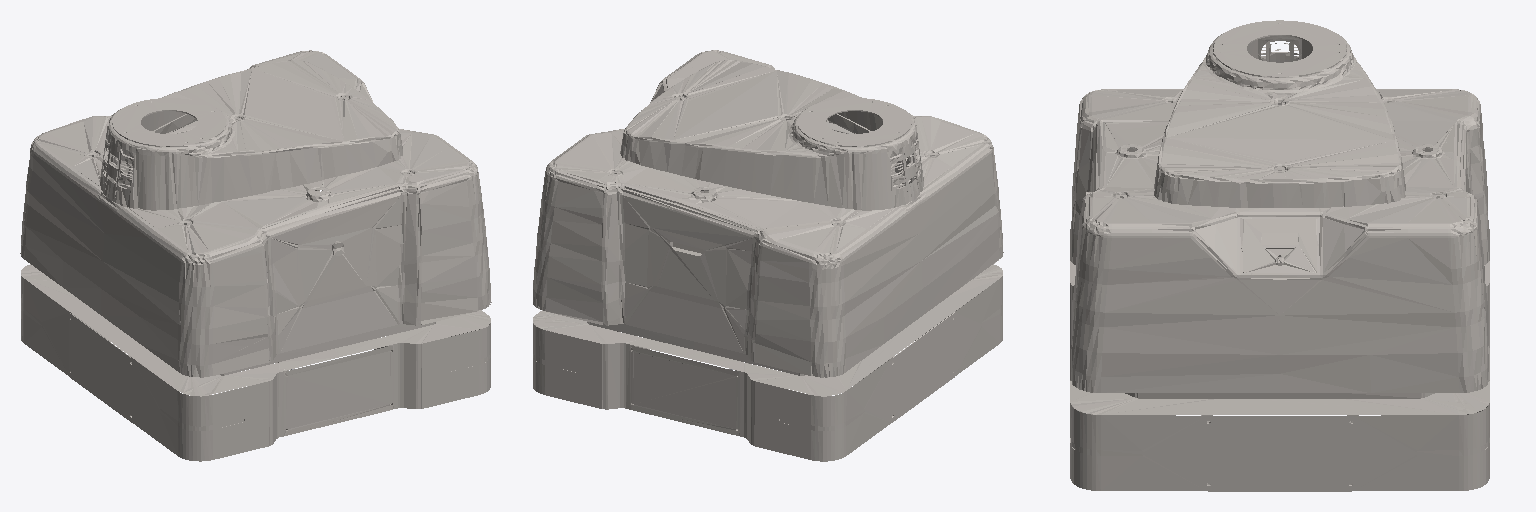
--- Facts derived from the render (not from the file) ---
3 views of the same robot in one strip: view 1: azimuth 30°, elevation 25°; view 2: azimuth 150°, elevation 25°; view 3: azimuth 270°, elevation 25° (orthographic).
Robot: awcombo — 2 links, 1 joints (1 fixed); root link base_link; default pose: every joint at zero.
Visible links, largest first — view 1: base_link; view 2: base_link; view 3: base_link.
Boxes of the visible links, x1=… form: base_link: x1=20, y1=50, x2=491, y2=461; base_link: x1=533, y1=50, x2=1003, y2=461; base_link: x1=1070, y1=20, x2=1489, y2=491.
Bounding box of the posed robot: 0.8508 × 0.85 × 0.7245 m (x, y, z).
1 mesh visuals loaded from 1 distinct referenced files (1 binary STL).

URDF robot description (awcombo):
<?xml version="1.0" ?>
<!-- =================================================================================== -->
<!-- |    This document was autogenerated by xacro from awcombo.xacro                  | -->
<!-- |    EDITING THIS FILE BY HAND IS NOT RECOMMENDED                                 | -->
<!-- =================================================================================== -->
<robot name="awcombo">
  <material name="aluminum">
    <color rgba="0.5 0.5 0.5 1"/>
  </material>
  <material name="plastic">
    <color rgba="0.1 0.1 0.1 1"/>
  </material>

  <!-- <joint name="base_footprint_joint" type="fixed">
    <parent link="base_link"/>
    <child link="base_footprint"/>
    <origin rpy="0 0 0" xyz="0 0 0"/>
  </joint> -->
  <link name="base_link">
    <inertial>
      <origin rpy="0 0 0" xyz="0.00020197 0.0019401 0.43265"/>
      <mass value="95.371"/>
      <inertia ixx="7.048" ixy="0.0020566" ixz="-0.00016602" iyy="7.0414" iyz="-0.14914" izz="12.614"/>
    </inertial>
    <visual>
      <origin rpy="0 0 0" xyz="0 0 0"/>
      <geometry>
        <mesh filename="package://neo_simulation2/robots/mpo_700/meshes/descriptions/amr_combo_v2/meshes/base_link.STL"/>
      </geometry>
      <material name="">
        <color rgba="0.77647 0.75686 0.73725 1"/>
      </material>
    </visual>
    <collision>
      <origin rpy="0 0 0" xyz="0 0 0"/>
      <geometry>
        <mesh filename="package://neo_simulation2/robots/mpo_700/meshes/descriptions/amr_combo_v2/meshes/base_link.STL"/>
      </geometry>
    </collision>
  </link>
  <link name="base_footprint">
    <inertial>
      <origin rpy="0 0 0" xyz="-0.00097233 0.00030419 0.2973"/>
      <mass value="27.996"/>
      <inertia ixx="1.2308" ixy="-0.00018417" ixz="1.2244E-06" iyy="1.1622" iyz="9.0657E-07" izz="2.3922"/>
    </inertial>
    <visual>
      <origin rpy="0 0 0" xyz="0 0 0"/>
      <geometry>
        <!-- <mesh filename="$(find amr_combo_v2)/meshes/base_footprint.STL"/> -->
        <box size="0.01 0.01 0.01" />
      </geometry>
      <material name="">
        <color rgba="0.86667 0.86667 0.8902 1"/>
      </material>
    </visual>
    <collision>
      <origin rpy="0 0 0" xyz="0 0 0"/>
      <geometry>
        <!-- <mesh filename="package://amr_combo_v2/meshes/base_footprint.STL"/> -->
        <box size="0.01 0.01 0.01" />
      </geometry>
    </collision>
  </link>
  <joint name="base_footprint" type="fixed">
    <origin rpy="0 0 0" xyz="0.1 0 0"/>
    <parent link="base_link"/>
    <child link="base_footprint"/>
    <axis xyz="0 0 0"/>
  </joint>
  <!-- <link name="mpo_700_caster_back_left_link">
    <inertial>
      <origin rpy="0 0 0" xyz="-5.5511E-17 0.0079242 -0.027057"/>
      <mass value="17.529"/>
      <inertia ixx="0.15365" ixy="4.3519E-19" ixz="2.079E-18" iyy="0.15493" iyz="0.010987" izz="0.025283"/>
    </inertial>
    <visual>
      <origin rpy="0 0 0" xyz="0 0 0"/>
      <geometry>
        <mesh filename="package://amr_combo_v2/meshes/mpo_700_caster_back_left_link.STL" scale="0.001 0.001 0.001"/>
      </geometry>
      <material name="">
        <color rgba="0.77647 0.75686 0.73725 1"/>
      </material>
    </visual>
    <collision>
      <origin rpy="0 0 0" xyz="0 0 0"/>
      <geometry>
        <mesh filename="package://amr_combo_v2/meshes/mpo_700_caster_back_left_link.STL" scale="0.001 0.001 0.001"/>
      </geometry>
    </collision>
  </link>
  <joint name="mpo_700_caster_back_left_joint" type="revolute">
    <origin rpy="0 0 0" xyz="-0.26 0.26 0.22"/>
    <parent link="base_footprint"/>
    <child link="mpo_700_caster_back_left_link"/>
    <axis xyz="0 0 1"/>
    <limit effort="1000" lower="-1E+16" upper="1E+16" velocity="6.5"/>
    <dynamics damping="30" friction="110"/>
  </joint> -->
  <!-- <link name="mpo_700_wheel_back_left_link">
    <inertial>
      <origin rpy="0 0 0" xyz="0 -0.0003764 0"/>
      <mass value="5.9448"/>
      <inertia ixx="0.012415" ixy="-1.6832E-19" ixz="-6.1901E-19" iyy="0.02381" iyz="-1.5948E-18" izz="0.012415"/>
    </inertial>
    <visual>
      <origin rpy="0 0 0" xyz="0 0 0"/>
      <geometry>
        <mesh filename="package://amr_combo_v2/meshes/mpo_700_wheel_back_left_link.STL"/>
      </geometry>
      <material name="">
        <color rgba="0.77647 0.75686 0.73725 1"/>
      </material>
    </visual>
    <collision>
      <origin rpy="0 0 0" xyz="0 0 0"/>
      <geometry>
        <mesh filename="package://amr_combo_v2/meshes/mpo_700_wheel_back_left_link.STL"/>
      </geometry>
    </collision>
  </link>
  <joint name="mpo_700_wheel_back_left_joint" type="revolute">
    <origin rpy="0 0 3.1416" xyz="0 -0.0453 -0.122"/>
    <parent link="mpo_700_caster_back_left_link"/>
    <child link="mpo_700_wheel_back_left_link"/>
    <axis xyz="0 1 0"/>
    <limit effort="1000" lower="-1E+16" upper="1E+16" velocity="20.5"/>
    <dynamics damping="30" friction="110"/>
  </joint>
  <link name="mpo_700_caster_back_right_link">
    <inertial>
      <origin rpy="0 0 0" xyz="0 0.0079242 -0.027057"/>
      <mass value="17.529"/>
      <inertia ixx="0.15365" ixy="6.5122E-20" ixz="1.2755E-18" iyy="0.15493" iyz="0.010987" izz="0.025283"/>
    </inertial>
    <visual>
      <origin rpy="0 0 0" xyz="0 0 0"/>
      <geometry>
        <mesh filename="package://amr_combo_v2/meshes/mpo_700_caster_back_right_link.STL"/>
      </geometry>
      <material name="">
        <color rgba="0.77647 0.75686 0.73725 1"/>
      </material>
    </visual>
    <collision>
      <origin rpy="0 0 0" xyz="0 0 0"/>
      <geometry>
        <mesh filename="package://amr_combo_v2/meshes/mpo_700_caster_back_right_link.STL"/>
      </geometry>
    </collision>
  </link>
  <joint name="mpo_700_caster_back_right_joint" type="revolute">
    <origin rpy="0 0 0" xyz="-0.26 -0.26 0.22"/>
    <parent link="base_footprint"/>
    <child link="mpo_700_caster_back_right_link"/>
    <axis xyz="0 0 1"/>
    <limit effort="1000" lower="-1E+16" upper="1E+16" velocity="6.5"/>
    <dynamics damping="30" friction="110"/>
  </joint>
  <link name="mpo_700_wheel_back_right_link">
    <inertial>
      <origin rpy="0 0 0" xyz="0 -0.0003764 -2.7756E-17"/>
      <mass value="5.9448"/>
      <inertia ixx="0.012415" ixy="-1.0996E-19" ixz="-6.1905E-19" iyy="0.02381" iyz="1.0833E-19" izz="0.012415"/>
    </inertial>
    <visual>
      <origin rpy="0 0 0" xyz="0 0 0"/>
      <geometry>
        <mesh filename="package://amr_combo_v2/meshes/mpo_700_wheel_back_right_link.STL"/>
      </geometry>
      <material name="">
        <color rgba="0.77647 0.75686 0.73725 1"/>
      </material>
    </visual>
    <collision>
      <origin rpy="0 0 0" xyz="0 0 0"/>
      <geometry>
        <mesh filename="package://amr_combo_v2/meshes/mpo_700_wheel_back_right_link.STL"/>
      </geometry>
    </collision>
  </link>
  <joint name="mpo_700_wheel_back_right_joint" type="revolute">
    <origin rpy="0 0 3.1416" xyz="0 -0.0453 -0.122"/>
    <parent link="mpo_700_caster_back_right_link"/>
    <child link="mpo_700_wheel_back_right_link"/>
    <axis xyz="0 -1 0"/>
    <limit effort="1000" lower="-1E+16" upper="1E+16" velocity="20.5"/>
    <dynamics damping="30" friction="110"/>
  </joint>
  <link name="mpo_700_caster_front_left_link">
    <inertial>
      <origin rpy="0 0 0" xyz="0 0.0079242 -0.027057"/>
      <mass value="17.529"/>
      <inertia ixx="0.15365" ixy="7.7938E-19" ixz="-1.1941E-18" iyy="0.15493" iyz="0.010987" izz="0.025283"/>
    </inertial>
    <visual>
      <origin rpy="0 0 0" xyz="0 0 0"/>
      <geometry>
        <mesh filename="package://amr_combo_v2/meshes/mpo_700_caster_front_left_link.STL"/>
      </geometry>
      <material name="">
        <color rgba="0.77647 0.75686 0.73725 1"/>
      </material>
    </visual>
    <collision>
      <origin rpy="0 0 0" xyz="0 0 0"/>
      <geometry>
        <mesh filename="package://amr_combo_v2/meshes/mpo_700_caster_front_left_link.STL"/>
      </geometry>
    </collision>
  </link>
  <joint name="mpo_700_caster_front_left_joint" type="revolute">
    <origin rpy="0 0 0" xyz="0.26 0.26 0.22"/>
    <parent link="base_footprint"/>
    <child link="mpo_700_caster_front_left_link"/>
    <axis xyz="0 0 1"/>
    <limit effort="1000" lower="-1E+16" upper="1E+16" velocity="6.5"/>
    <dynamics damping="30" friction="110"/>
  </joint>
  <link name="mpo_700_wheel_front_left_link">
    <inertial>
      <origin rpy="0 0 0" xyz="0 -0.0003764 1.3878E-17"/>
      <mass value="5.9448"/>
      <inertia ixx="0.012415" ixy="-3.9576E-19" ixz="-2.0189E-19" iyy="0.02381" iyz="-1.7678E-18" izz="0.012415"/>
    </inertial>
    <visual>
      <origin rpy="0 0 0" xyz="0 0 0"/>
      <geometry>
        <mesh filename="package://amr_combo_v2/meshes/mpo_700_wheel_front_left_link.STL"/>
      </geometry>
      <material name="">
        <color rgba="0.77647 0.75686 0.73725 1"/>
      </material>
    </visual>
    <collision>
      <origin rpy="0 0 0" xyz="0 0 0"/>
      <geometry>
        <mesh filename="package://amr_combo_v2/meshes/mpo_700_wheel_front_left_link.STL"/>
      </geometry>
    </collision>
  </link>
  <joint name="mpo_700_wheel_front_left_joint" type="revolute">
    <origin rpy="0 0 3.1416" xyz="0 -0.0453 -0.122"/>
    <parent link="mpo_700_caster_front_left_link"/>
    <child link="mpo_700_wheel_front_left_link"/>
    <axis xyz="0 1 0"/>
    <limit effort="10000" lower="-1E+16" upper="1E+16" velocity="20.5"/>
    <dynamics damping="30" friction="110"/>
  </joint>
  <link name="mpo_700_caster_front_right_link">
    <inertial>
      <origin rpy="0 0 0" xyz="0 0.0079242 -0.027057"/>
      <mass value="17.529"/>
      <inertia ixx="0.15365" ixy="4.224E-19" ixz="-7.1236E-19" iyy="0.15493" iyz="0.010987" izz="0.025283"/>
    </inertial>
    <visual>
      <origin rpy="0 0 0" xyz="0 0 0"/>
      <geometry>
        <mesh filename="package://amr_combo_v2/meshes/mpo_700_caster_front_right_link.STL"/>
      </geometry>
      <material name="">
        <color rgba="0.77647 0.75686 0.73725 1"/>
      </material>
    </visual>
    <collision>
      <origin rpy="0 0 0" xyz="0 0 0"/>
      <geometry>
        <mesh filename="package://amr_combo_v2/meshes/mpo_700_caster_front_right_link.STL"/>
      </geometry>
    </collision>
  </link>
  <joint name="mpo_700_caster_front_right_joint" type="revolute">
    <origin rpy="0 0 0" xyz="0.26 -0.26 0.22"/>
    <parent link="base_footprint"/>
    <child link="mpo_700_caster_front_right_link"/>
    <axis xyz="0 0 1"/>
    <limit effort="1000" lower="-1E+16" upper="1E+16" velocity="6.5"/>
    <dynamics damping="30" friction="110"/>
  </joint>
  <link name="mpo_700_wheel_front_right_link">
    <inertial>
      <origin rpy="0 0 0" xyz="0 -0.0003764 -2.7756E-17"/>
      <mass value="5.9448"/>
      <inertia ixx="0.012415" ixy="-1.2506E-19" ixz="-2.0193E-19" iyy="0.02381" iyz="-6.4764E-20" izz="0.012415"/>
    </inertial>
    <visual>
      <origin rpy="0 0 0" xyz="0 0 0"/>
      <geometry>
        <mesh filename="package://amr_combo_v2/meshes/mpo_700_wheel_front_right_link.STL"/>
      </geometry>
      <material name="">
        <color rgba="0.77647 0.75686 0.73725 1"/>
      </material>
    </visual>
    <collision>
      <origin rpy="0 0 0" xyz="0 0 0"/>
      <geometry>
        <mesh filename="package://amr_combo_v2/meshes/mpo_700_wheel_front_right_link.STL"/>
      </geometry>
    </collision>
  </link>
  <joint name="mpo_700_wheel_front_right_joint" type="revolute">
    <origin rpy="0 0 -3.1416" xyz="0 -0.0453 -0.122"/>
    <parent link="mpo_700_caster_front_right_link"/>
    <child link="mpo_700_wheel_front_right_link"/>
    <axis xyz="0 -1 0"/>
    <limit effort="1000" lower="-1E+16" upper="1E+16" velocity="20.5"/>
    <dynamics damping="30" friction="110"/>
  </joint>
  <link name="lidar_1_link">
    <inertial>
      <origin rpy="0 0 0" xyz="-1.0182 1.7996E-06 0.01114"/>
      <mass value="0.28899"/>
      <inertia ixx="0.00020547" ixy="-1.0914E-08" ixz="1.1185E-08" iyy="0.00020546" iyz="1.6374E-08" izz="0.0002783"/>
    </inertial>
    <visual>
      <origin rpy="0 0 0" xyz="0 0 0"/>
      <geometry>
        <mesh filename="package://amr_combo_v2/meshes/lidar_1_link.STL"/>
      </geometry>
      <material name="">
        <color rgba="0.79216 0.81961 0.93333 1"/>
      </material>
    </visual>
    <collision>
      <origin rpy="0 0 0" xyz="0 0 0"/>
      <geometry>
        <mesh filename="package://amr_combo_v2/meshes/lidar_1_link.STL"/>
      </geometry>
    </collision>
  </link>
  <joint name="lidar_1_link" type="fixed">
    <origin rpy="3.1416 0 -2.3562" xyz="-0.36 -0.36 0.2465"/>
    <parent link="base_link"/>
    <child link="lidar_1_link"/>
    <axis xyz="0 0 0"/>
  </joint>
  <link name="lidar_2_link">
    <inertial>
      <origin rpy="0 0 0" xyz="-1.0182 -1.6443E-06 0.01114"/>
      <mass value="0.28899"/>
      <inertia ixx="0.00020547" ixy="-1.1651E-08" ixz="-1.3037E-08" iyy="0.00020547" iyz="-1.4942E-08" izz="0.0002783"/>
    </inertial>
    <visual>
      <origin rpy="0 0 0" xyz="0 0 0"/>
      <geometry>
        <mesh filename="package://amr_combo_v2/meshes/lidar_2_link.STL"/>
      </geometry>
      <material name="">
        <color rgba="0.79216 0.81961 0.93333 1"/>
      </material>
    </visual>
    <collision>
      <origin rpy="0 0 0" xyz="0 0 0"/>
      <geometry>
        <mesh filename="package://amr_combo_v2/meshes/lidar_2_link.STL"/>
      </geometry>
    </collision>
  </link>
  <joint name="lidar_2_link" type="fixed">
    <origin rpy="3.1416 0 0.7854" xyz="0.36 0.36 0.2465"/>
    <parent link="base_link"/>
    <child link="lidar_2_link"/>
    <axis xyz="0 0 0"/>
  </joint>
  <link name="agv_link1">
    <inertial>
      <origin rpy="0 0 0" xyz="-1.0093E-18 0 -0.43855"/>
      <mass value="150.55"/>
      <inertia ixx="17.026" ixy="-1.9211E-17" ixz="4.6799E-16" iyy="17.026" iyz="5.5226E-17" izz="0.54086"/>
    </inertial>
    <visual>
      <origin rpy="0 0 0" xyz="0 0 0"/>
      <geometry>
        <mesh filename="package://amr_combo_v2/meshes/agv_link1.STL"/>
      </geometry>
      <material name="">
        <color rgba="0.77647 0.75686 0.73725 1"/>
      </material>
    </visual>
    <collision>
      <origin rpy="0 0 0" xyz="0 0 0"/>
      <geometry>
        <mesh filename="package://amr_combo_v2/meshes/agv_link1.STL"/>
      </geometry>
    </collision>
  </link>
  <joint name="agv_link1" type="fixed">
    <origin rpy="0 0 0" xyz="0 -0.237 1.446"/>
    <parent link="base_link"/>
    <child link="agv_link1"/>
    <axis xyz="0 0 0"/>
  </joint>
  <joint name="awtube2_18kg_v2_base_joint" type="fixed">
    <parent link="agv_link1"/>
    <child link="awtube2_18kg_v2_base_link"/>
    <origin rpy="0 0 0" xyz="0 0 0"/>
  </joint>
  <link name="awtube2_18kg_v2_base_link">
    <inertial>
      <origin rpy="0 0 0" xyz="3.1408E-18 2.3265E-19 0.011306"/>
      <mass value="0.71698"/>
      <inertia ixx="0.0026347" ixy="-3.4047E-19" ixz="3.6583E-20" iyy="0.0026347" iyz="3.3614E-20" izz="0.0051879"/>
    </inertial>
    <visual>
      <origin rpy="0 0 0" xyz="0 0 0"/>
      <geometry>
        <mesh filename="package://awtube2_18kg_v2/meshes/base_link.STL"/>
      </geometry>
      <material name="">
        <color rgba="0.79216 0.81961 0.93333 1"/>
      </material>
    </visual>
    <collision>
      <origin rpy="0 0 0" xyz="0 0 0"/>
      <geometry>
        <mesh filename="package://awtube2_18kg_v2/meshes/controllo/base_link.STL"/>
      </geometry>
    </collision>
  </link>
  <link name="awtube2_18kg_v2_link1">
    <inertial>
      <origin rpy="0 0 0" xyz="-5.6964E-08 0.0052032 0.13467"/>
      <mass value="7.4558"/>
      <inertia ixx="0.059839" ixy="-9.5174E-08" ixz="1.4852E-07" iyy="0.057912" iyz="0.0017444" izz="0.034054"/>
    </inertial>
    <visual>
      <origin rpy="0 0 0" xyz="0 0 0"/>
      <geometry>
        <mesh filename="package://awtube2_18kg_v2/meshes/link1.STL"/>
      </geometry>
      <material name="">
        <color rgba="0.79216 0.81961 0.93333 1"/>
      </material>
    </visual>
    <collision>
      <origin rpy="0 0 0" xyz="0 0 0"/>
      <geometry>
        <mesh filename="package://awtube2_18kg_v2/meshes/controllo/link1.STL"/>
      </geometry>
    </collision>
  </link>
  <joint name="awtube2_18kg_v2_joint1" type="revolute">
    <origin rpy="0 0 1.5707963267948966" xyz="0 0 0.025"/>
    <parent link="awtube2_18kg_v2_base_link"/>
    <child link="awtube2_18kg_v2_link1"/>
    <axis xyz="0 0 -1"/>
    <limit effort="600" lower="-3.14" upper="3.14" velocity="1.2436"/>
    <dynamics damping="1" friction="0.1"/>
  </joint>
  <link name="awtube2_18kg_v2_link2">
    <inertial>
      <origin rpy="0 0 0" xyz="3.0744E-16 0.34153 0.17206"/>
      <mass value="16.867"/>
      <inertia ixx="0.13028" ixy="-1.9035E-07" ixz="-2.5941E-17" iyy="0.12157" iyz="-5.8547E-18" izz="0.080528"/>
    </inertial>
    <visual>
      <origin rpy="0 0 0" xyz="0 0 0"/>
      <geometry>
        <mesh filename="package://awtube2_18kg_v2/meshes/link2.STL"/>
      </geometry>
      <material name="">
        <color rgba="0.79216 0.81961 0.93333 1"/>
      </material>
    </visual>
    <collision>
      <origin rpy="0 0 0" xyz="0 0 0"/>
      <geometry>
        <mesh filename="package://awtube2_18kg_v2/meshes/controllo/link2.STL"/>
      </geometry>
    </collision>
  </link>
  <joint name="awtube2_18kg_v2_joint2" type="revolute">
    <origin rpy="1.5708 0 3.1416" xyz="0 0.1045 0.09"/>
    <parent link="awtube2_18kg_v2_link1"/>
    <child link="awtube2_18kg_v2_link2"/>
    <axis xyz="0 0 -1"/>
    <limit effort="650" lower="-3.14" upper="3.14" velocity="0.86"/>
    <dynamics damping="1" friction="0.1"/>
  </joint>
  <link name="awtube2_18kg_v2_link3">
    <inertial>
      <origin rpy="0 0 0" xyz="1.0739E-07 -0.031501 0.12478"/>
      <mass value="5.2778"/>
      <inertia ixx="0.027836" ixy="-2.6227E-09" ixz="2.1362E-09" iyy="0.014296" iyz="0.0014164" izz="0.0285"/>
    </inertial>
    <visual>
      <origin rpy="0 0 0" xyz="0 0 0"/>
      <geometry>
        <mesh filename="package://awtube2_18kg_v2/meshes/link3.STL"/>
      </geometry>
      <material name="">
        <color rgba="0.79216 0.81961 0.93333 1"/>
      </material>
    </visual>
    <collision>
      <origin rpy="0 0 0" xyz="0 0 0"/>
      <geometry>
        <mesh filename="package://awtube2_18kg_v2/meshes/controllo/link3.STL"/>
      </geometry>
    </collision>
  </link>
  <joint name="awtube2_18kg_v2_joint3" type="revolute">
    <origin rpy="3.1416 0 -1.5707963267948966" xyz="0 0.725 0.0495"/>
    <parent link="awtube2_18kg_v2_link2"/>
    <child link="awtube2_18kg_v2_link3"/>
    <axis xyz="0 0 -1"/>
    <limit effort="350" lower="-3.14" upper="3.14" velocity="1.24"/>
    <dynamics damping="1" friction="0.1"/>
  </joint>
  <link name="awtube2_18kg_v2_link4">
    <inertial>
      <origin rpy="0 0 0" xyz="1.1453E-07 -0.033596 0.53855"/>
      <mass value="4.9487"/>
      <inertia ixx="0.03104" ixy="-2.6227E-09" ixz="2.1362E-09" iyy="0.0175" iyz="0.0014164" izz="0.026027"/>
    </inertial>
    <visual>
      <origin rpy="0 0 0" xyz="0 0 0"/>
      <geometry>
        <mesh filename="package://awtube2_18kg_v2/meshes/link4.STL"/>
      </geometry>
      <material name="">
        <color rgba="0.79216 0.81961 0.93333 1"/>
      </material>
    </visual>
    <collision>
      <origin rpy="0 0 0" xyz="0 0 0"/>
      <geometry>
        <mesh filename="package://awtube2_18kg_v2/meshes/controllo/link4.STL"/>
      </geometry>
    </collision>
  </link>
  <joint name="awtube2_18kg_v2_joint4" type="revolute">
    <origin rpy="-1.5708 0 0" xyz="0 0.0874 0.154"/>
    <parent link="awtube2_18kg_v2_link3"/>
    <child link="awtube2_18kg_v2_link4"/>
    <axis xyz="0 0 -1"/>
    <limit effort="145" lower="-3.14" upper="3.14" velocity="2.71"/>
    <dynamics damping="1" friction="0.1"/>
  </joint>
  <link name="awtube2_18kg_v2_link5">
    <inertial>
      <origin rpy="0 0 0" xyz="4.1585E-08 -0.17645 -0.055943"/>
      <mass value="3.3765"/>
      <inertia ixx="0.016413" ixy="-2.9318E-08" ixz="-3.1693E-09" iyy="0.0061497" iyz="2.9588E-05" izz="0.017107"/>
    </inertial>
    <visual>
      <origin rpy="0 0 0" xyz="0 0 0"/>
      <geometry>
        <mesh filename="package://awtube2_18kg_v2/meshes/link5.STL"/>
      </geometry>
      <material name="">
        <color rgba="0.79216 0.81961 0.93333 1"/>
      </material>
    </visual>
    <collision>
      <origin rpy="0 0 0" xyz="0 0 0"/>
      <geometry>
        <mesh filename="package://awtube2_18kg_v2/meshes/controllo/link5.STL"/>
      </geometry>
    </collision>
  </link>
  <joint name="awtube2_18kg_v2_joint5" type="revolute">
    <origin rpy="-1.5708 1.5707963267948966 0" xyz="0 0.0924 0.5876"/>
    <parent link="awtube2_18kg_v2_link4"/>
    <child link="awtube2_18kg_v2_link5"/>
    <axis xyz="0 0 -1"/>
    <limit effort="145" lower="-1.6" upper="1.6" velocity="2.71"/>
    <dynamics damping="1" friction="0.1"/>
  </joint>
  <link name="awtube2_18kg_v2_link6">
    <inertial>
      <origin rpy="0 0 0" xyz="1.721E-16 -1.7268E-16 0.027662"/>
      <mass value="0.382"/>
      <inertia ixx="0.0003488" ixy="9.2314E-20" ixz="4.3131E-20" iyy="0.0003488" iyz="-7.1296E-20" izz="0.00054908"/>
    </inertial>
    <visual>
      <origin rpy="0 0 0" xyz="0 0 0"/>
      <geometry>
        <mesh filename="package://awtube2_18kg_v2/meshes/link6.STL"/>
      </geometry>
      <material name="">
        <color rgba="0.79216 0.81961 0.93333 1"/>
      </material>
    </visual>
    <collision>
      <origin rpy="0 0 0" xyz="0 0 0"/>
      <geometry>
        <mesh filename="package://awtube2_18kg_v2/meshes/controllo/link6.STL"/>
      </geometry>
    </collision>
  </link>
  <joint name="awtube2_18kg_v2_joint6" type="revolute">
    <origin rpy="1.5708 0 0" xyz="0 -0.2975 -0.0924"/>
    <parent link="awtube2_18kg_v2_link5"/>
    <child link="awtube2_18kg_v2_link6"/>
    <axis xyz="0 0 -1"/>
    <limit effort="85" lower="-3.14" upper="3.14" velocity="3.61"/>
    <dynamics damping="1" friction="0.1"/>
  </joint>
  <joint name="grip_exon_base_joint" type="fixed">
    <parent link="awtube2_18kg_v2_link6"/>
    <child link="RIF"/>
    <origin rpy="0 0 -1.57" xyz="0 0 0.057"/>
  </joint>
  <link name="RIF">
    <inertial>
      <origin rpy="0 0 0" xyz="0.00021269 2.1562E-14 0.0025"/>
      <mass value="0.02908"/>
      <inertia ixx="8.9458E-06" ixy="1.4285E-18" ixz="-4.9596E-21" iyy="2.8336E-05" iyz="1.2484E-18" izz="3.7163E-05"/>
    </inertial>
    <visual>
      <origin rpy="0 0 0" xyz="0 0 0"/>
      <geometry>
        <mesh filename="package://grip_exon/meshes/RIF.STL"/>
      </geometry>
      <material name="">
        <color rgba="0.79216 0.81961 0.93333 1"/>
      </material>
    </visual>
    <collision>
      <origin rpy="0 0 0" xyz="0 0 0"/>
      <geometry>
        <mesh filename="package://grip_exon/meshes/RIF.STL"/>
      </geometry>
    </collision>
  </link>
  <link name="GRIPPER">
    <inertial>
      <origin rpy="0 0 0" xyz="0.00070773 -0.00049669 -0.043144"/>
      <mass value="0.69541"/>
      <inertia ixx="0.001292" ixy="-3.4933E-08" ixz="-1.1642E-07" iyy="0.0030317" iyz="1.7201E-06" izz="0.0041665"/>
    </inertial>
    <visual>
      <origin rpy="0 0 0" xyz="0 0 0"/>
      <geometry>
        <mesh filename="package://grip_exon/meshes/GRIPPER.STL"/>
      </geometry>
      <material name="">
        <color rgba="0.79216 0.81961 0.93333 1"/>
      </material>
    </visual>
    <collision>
      <origin rpy="0 0 0" xyz="0 0 0"/>
      <geometry>
        <mesh filename="package://grip_exon/meshes/GRIPPER.STL"/>
      </geometry>
    </collision>
  </link>
  <joint name="GRIPPER" type="fixed">
    <origin rpy="0 0 0" xyz="0 0 0.1211"/>
    <parent link="RIF"/>
    <child link="GRIPPER"/>
    <axis xyz="0 0 0"/>
  </joint> -->


  <!-- NOT DOWN --> 

  <!-- <link
    name="camera">
    <inertial>
      <origin
        xyz="-0.052651 4.1069E-05 0.017479"
        rpy="0 0 0" />
      <mass
        value="0.14401" />
      <inertia
        ixx="0.00034741"
        ixy="1.3797E-08"
        ixz="1.7201E-06"
        iyy="0.00014747"
        iyz="-1.2671E-07"
        izz="0.00036222" />
    </inertial>
    <visual>
      <origin
        xyz="0 0 0"
        rpy="0 0 0" />
      <geometry>
        <mesh
          filename="package://grip_exon/meshes/camera.STL" />
      </geometry>
      <material
        name="">
        <color
          rgba="0.79216 0.81961 0.93333 1" />
      </material>
    </visual>
    <collision>
      <origin
        xyz="0 0 0"
        rpy="0 0 0" />
      <geometry>
        <mesh
          filename="package://grip_exon/meshes/camera.STL" />
      </geometry>
    </collision>
  </link>
  <joint
    name="camera"
    type="fixed">
    <origin
      xyz="0 -0.05505 0.0475"
      rpy="3.1416 0 -1.5708" />
    <parent
      link="RIF" />
    <child
      link="camera" />
    <axis
      xyz="0 0 0" />
  </joint> -->

  <!-- NOT UP -->

  <!-- <joint name="supporto_cam_base_joint" type="fixed">
    <parent link="GRIPPER"/>
    <child link="base"/>
    <origin rpy="3.14 0 1.57" xyz="0 -0.08 -0.048"/>
  </joint>
  <link name="base">
    <inertial>
      <origin rpy="0 0 0" xyz="-0.024968 -1.2433E-07 0.023136"/>
      <mass value="0.080064"/>
      <inertia ixx="3.9197E-05" ixy="1.1651E-10" ixz="9.4191E-06" iyy="4.1104E-05" iyz="-1.2673E-10" izz="6.4713E-05"/>
    </inertial>
    <visual>
      <origin rpy="0 0 0" xyz="0 0 0"/>
      <geometry>
        <mesh filename="package://camera_support/meshes/base.STL"/>
      </geometry>
      <material name="">
        <color rgba="0.69804 0.69804 0.69804 1"/>
      </material>
    </visual>
    <collision>
      <origin rpy="0 0 0" xyz="0 0 0"/>
      <geometry>
        <mesh filename="package://camera_support/meshes/base.STL"/>
      </geometry>
    </collision>
  </link>
  <link name="cam">
    <inertial>
      <origin rpy="0 0 0" xyz="-5E-05 -4.3708E-19 0"/>
      <mass value="1E-07"/>
      <inertia ixx="1.6667E-14" ixy="-4.7178E-34" ixz="-5.2119E-32" iyy="8.4167E-15" iyz="-1.5126E-30" izz="8.4167E-15"/>
    </inertial>
    <visual>
      <origin rpy="0 0 0" xyz="0 0 0"/>
      <geometry>
        <mesh filename="package://camera_support/meshes/cam.STL"/>
      </geometry>
      <material name="">
        <color rgba="0.79216 0.81961 0.93333 1"/>
      </material>
    </visual>
    <collision>
      <origin rpy="0 0 0" xyz="0 0 0"/>
      <geometry>
        <mesh filename="package://camera_support/meshes/cam.STL"/>
      </geometry>
    </collision>
  </link>
  <joint name="cam" type="fixed">
    <origin rpy="0 1.5708 0" xyz="-0.0645 0 0.0259"/>
    <parent link="base"/>
    <child link="cam"/>
    <axis xyz="0 0 0"/>
  </joint> -->
  <!-- camera body, with origin at bottom screw mount -->
  <!-- <joint name="camera_joint" type="fixed">
    <origin rpy="3.14 0 0" xyz="0.01 0 0.0125"/>
    <parent link="cam"/>
    <child link="camera_bottom_screw_frame"/>
  </joint>
  <link name="camera_bottom_screw_frame"/>
  <joint name="camera_link_joint" type="fixed">
    <origin rpy="0 0 0" xyz="0.010600000000000002 0.0175 0.0125"/>
    <parent link="camera_bottom_screw_frame"/>
    <child link="camera_link"/>
  </joint>
  <link name="camera_link">
    <visual> -->
      <!-- the mesh origin is at front plate in between the two infrared camera axes -->
      <!-- <origin rpy="1.5707963267948966 0 1.5707963267948966" xyz="0.0043 -0.0175 0"/>
      <geometry>
        <mesh filename="file://[local-path]/awCombo_simulation/install/realsense2_description/share/realsense2_description/meshes/d435.dae"/>
      </geometry>
    </visual>
    <collision>
      <origin rpy="0 0 0" xyz="0 -0.0175 0"/>
      <geometry>
        <box size="0.02505 0.09 0.025"/>
      </geometry>
    </collision>
    <inertial> -->
      <!-- The following are not reliable values, and should not be used for modeling -->
      <!-- <mass value="0.072"/>
      <origin xyz="0 0 0"/>
      <inertia ixx="0.003881243" ixy="0.0" ixz="0.0" iyy="0.000498940" iyz="0.0" izz="0.003879257"/>
    </inertial>
  </link>
  <ros2_control name="awtube" type="system">
    <hardware>
      <plugin>ethercat_driver/EthercatDriver</plugin>
      <param name="interface_name">eno1</param>
      <param name="cpu_id">0</param>
      <param name="control_frequency">1000</param>
    </hardware> -->
    <!-- GPIO -->
    <!-- <gpio name="Beckhoff">
      <command_interface name="dig_output.1"/>
      <command_interface name="dig_output.2"/>
      <command_interface name="dig_output.3"/>
      <command_interface name="dig_output.4"/>
      <command_interface name="dig_output.5"/>
      <command_interface name="dig_output.6"/>
      <command_interface name="dig_output.7"/>
      <command_interface name="dig_output.8"/>
      <state_interface name="dig_output.1"/>
      <state_interface name="dig_output.2"/>
      <state_interface name="dig_output.3"/>
      <state_interface name="dig_output.4"/>
      <state_interface name="dig_output.5"/>
      <state_interface name="dig_output.6"/>
      <state_interface name="dig_output.7"/>
      <state_interface name="dig_output.8"/>
      <state_interface name="dig_input.1"/>
      <state_interface name="dig_input.2"/>
      <state_interface name="dig_input.3"/>
      <state_interface name="dig_input.4"/>
      <state_interface name="dig_input.5"/>
      <state_interface name="dig_input.6"/>
      <state_interface name="dig_input.7"/>
      <state_interface name="dig_input.8"/>
      <ec_module name="EK1100">
        <plugin>ethercat/BeckhoffEK1100</plugin>
        <param name="client_id">1</param>
      </ec_module>
      <ec_module name="EL1808">
        <plugin>ethercat/BeckhoffEL1808</plugin>
        <param name="client_id">2</param>
        <param name="di.1">dig_input.1</param>
        <param name="di.2">dig_input.2</param>
        <param name="di.3">dig_input.3</param>
        <param name="di.4">dig_input.4</param>
        <param name="di.5">dig_input.5</param>
        <param name="di.6">dig_input.6</param>
        <param name="di.7">dig_input.7</param>
        <param name="di.8">dig_input.8</param>
      </ec_module>
      <ec_module name="EL2808">
        <plugin>ethercat/BeckhoffEL2808</plugin>
        <param name="client_id">3</param>
        <param name="do.1">dig_output.1</param>
        <param name="do.2">dig_output.2</param>
        <param name="do.3">dig_output.3</param>
        <param name="do.4">dig_output.4</param>
        <param name="do.5">dig_output.5</param>
        <param name="do.6">dig_output.6</param>
        <param name="do.7">dig_output.7</param>
        <param name="do.8">dig_output.8</param>
      </ec_module>
    </gpio> -->
    <!-- Joints -->
    <!-- <joint name="awtube2_18kg_v2_joint1">
      <command_interface name="position"/>
      <command_interface name="velocity"/>
      <command_interface name="effort"/>
      <state_interface name="position"/>
      <state_interface name="velocity"/>
      <state_interface name="effort"/>
      <ec_module name="AWJointClient">
        <plugin>ethercat/AWJointClient</plugin>
        <param name="client_id">4</param>
        <param name="mode_of_operation">CSP</param>
      </ec_module>
    </joint>
    <joint name="awtube2_18kg_v2_joint2">
      <command_interface name="position"/>
      <command_interface name="velocity"/>
      <command_interface name="effort"/>
      <state_interface name="position"/>
      <state_interface name="velocity"/>
      <state_interface name="effort"/>
      <ec_module name="AWJointClient">
        <plugin>ethercat/AWJointClient</plugin>
        <param name="client_id">5</param>
        <param name="mode_of_operation">CSP</param>
      </ec_module>
    </joint>
    <joint name="awtube2_18kg_v2_joint3">
      <command_interface name="position"/>
      <command_interface name="velocity"/>
      <command_interface name="effort"/>
      <state_interface name="position"/>
      <state_interface name="velocity"/>
      <state_interface name="effort"/>
      <ec_module name="AWJointClient">
        <plugin>ethercat/AWJointClient</plugin>
        <param name="client_id">6</param>
        <param name="mode_of_operation">CSP</param>
      </ec_module>
    </joint>
    <joint name="awtube2_18kg_v2_joint4">
      <command_interface name="position"/>
      <command_interface name="velocity"/>
      <command_interface name="effort"/>
      <state_interface name="position"/>
      <state_interface name="velocity"/>
      <state_interface name="effort"/>
      <ec_module name="AWJointClient">
        <plugin>ethercat/AWJointClient</plugin>
        <param name="client_id">7</param>
        <param name="mode_of_operation">CSP</param>
      </ec_module>
    </joint>
    <joint name="awtube2_18kg_v2_joint5">
      <command_interface name="position"/>
      <command_interface name="velocity"/>
      <command_interface name="effort"/>
      <state_interface name="position"/>
      <state_interface name="velocity"/>
      <state_interface name="effort"/>
      <ec_module name="AWJointClient">
        <plugin>ethercat/AWJointClient</plugin>
        <param name="client_id">8</param>
        <param name="mode_of_operation">CSP</param>
      </ec_module>
    </joint>
    <joint name="awtube2_18kg_v2_joint6">
      <command_interface name="position"/>
      <command_interface name="velocity"/>
      <command_interface name="effort"/>
      <state_interface name="position"/>
      <state_interface name="velocity"/>
      <state_interface name="effort"/>
      <ec_module name="AWJointClient">
        <plugin>ethercat/AWJointClient</plugin>
        <param name="client_id">9</param>
        <param name="mode_of_operation">CSP</param>
      </ec_module>
    </joint>
  </ros2_control> -->
</robot>
